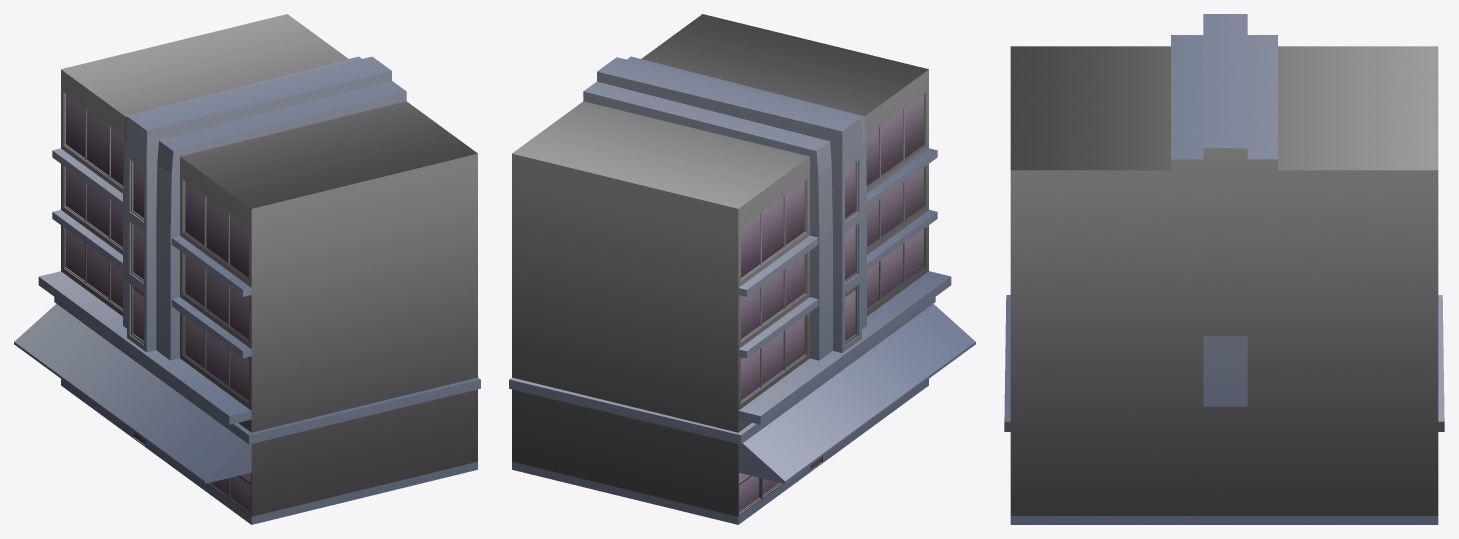
Rendered from miami_building_008.FBX.
3 views of the same model, side by side, from view 1: azimuth 30°, elevation 25°; view 2: azimuth 150°, elevation 25°; view 3: azimuth 270°, elevation 25° (orthographic). The views are drawn at different scales.
Parts seen in each view (by area): view 1: Box007; view 2: Box007; view 3: Box007.
Boxes of the visible parts, x1,y1,x2,y2 form: Box007: (14, 14, 480, 524); Box007: (509, 14, 975, 524); Box007: (1004, 14, 1444, 524).
Size of the model in its own units: 579 by 680 by 720.
